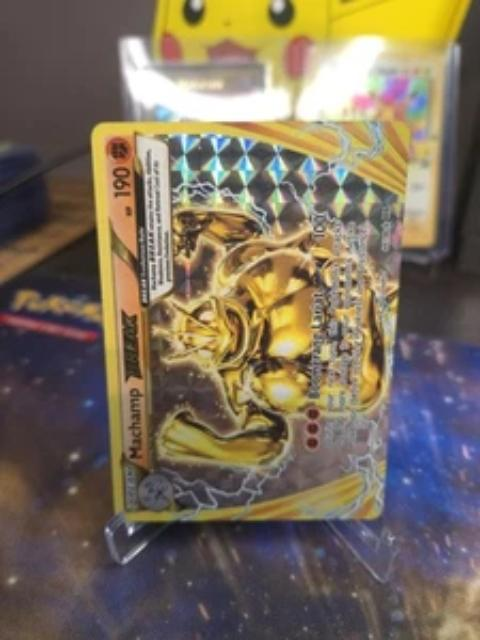Card: (86, 113, 414, 528)
Name: (114, 297, 149, 467)
